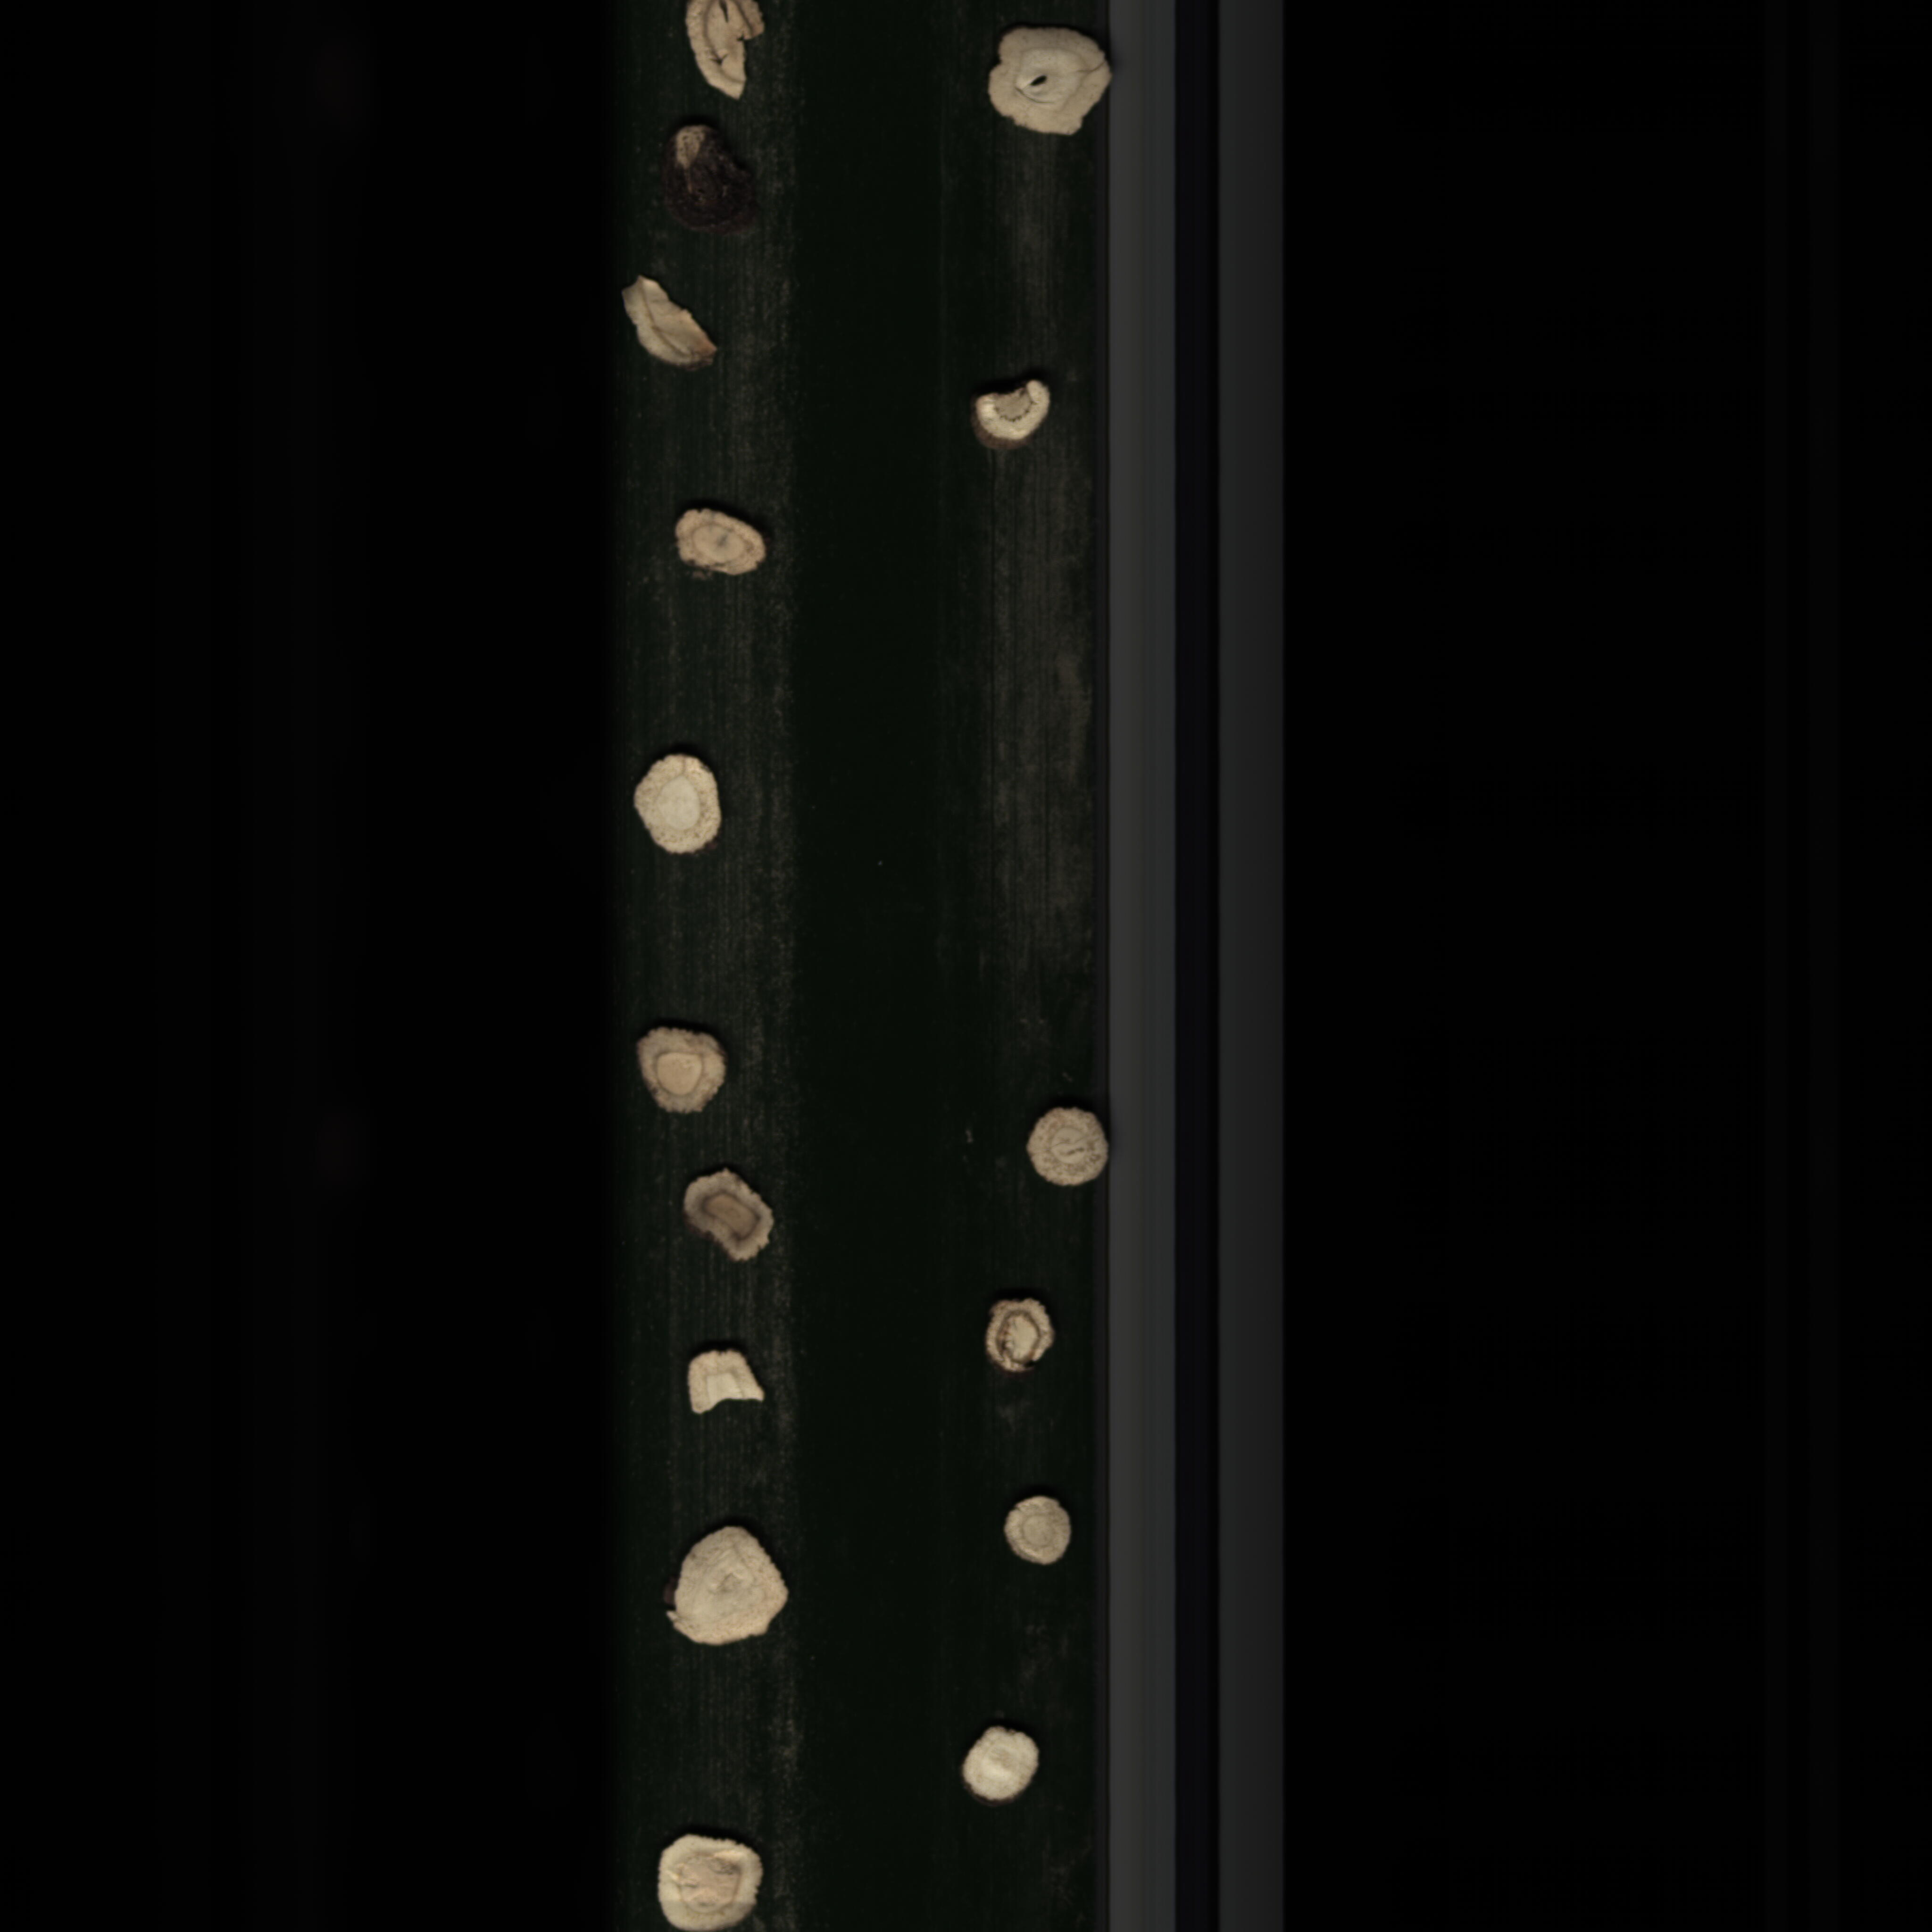bark: (663, 129, 713, 180)
debris: (614, 265, 731, 375), (676, 1343, 793, 1435), (678, 4, 780, 108), (970, 375, 1056, 464)
hole: (984, 25, 1113, 170)
moldy: (671, 1159, 782, 1267), (978, 1292, 1062, 1375)
